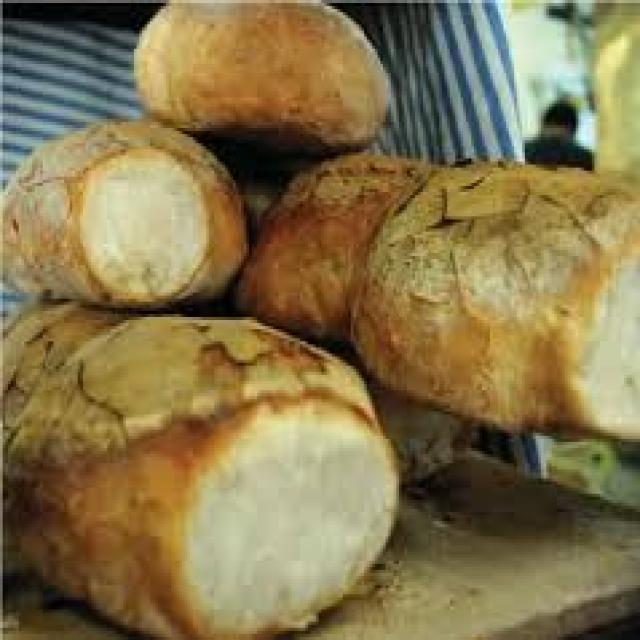Maltese-Bread: (5, 302, 394, 637), (351, 162, 637, 436), (3, 119, 246, 305), (134, 0, 388, 146)
